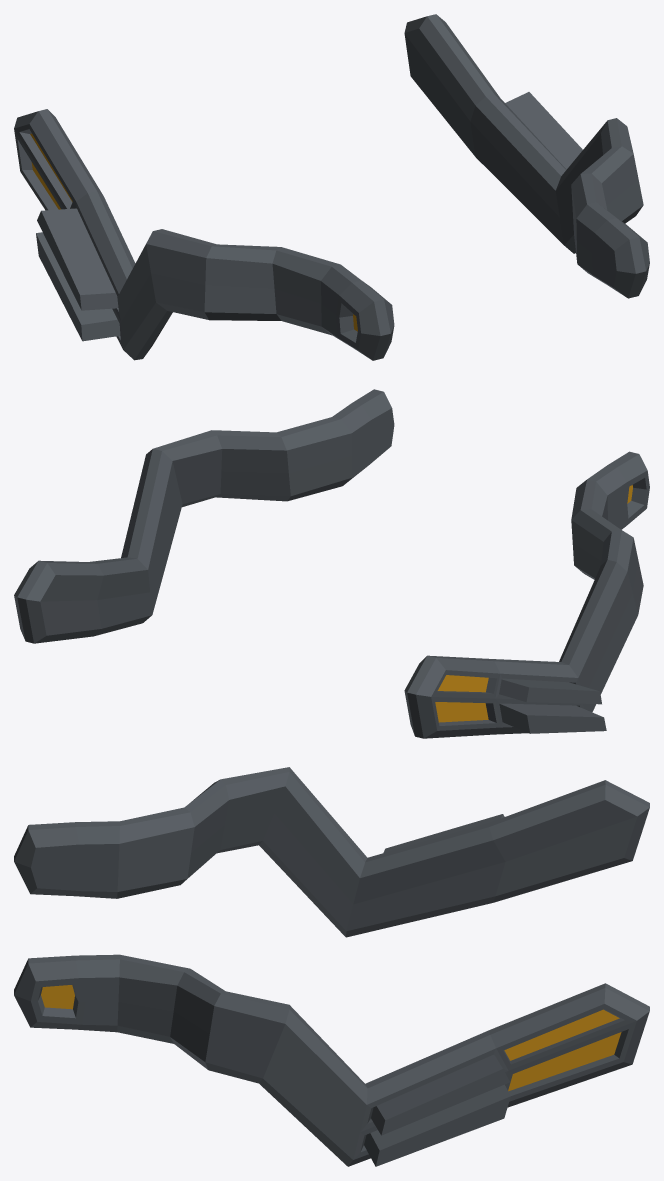
Rendered from Personal_Vehicle_04_Spine_Rods_Yellow.fbx.
3 renders of one model, top to bottom at view 1: azimuth 30°, elevation 25°; view 2: azimuth 150°, elevation 25°; view 3: azimuth 270°, elevation 25°, orthographic. The views are drawn at different scales.
Visible parts, largest first — view 1: Personal_Vehicle_04_Spine_Rods_Yellow; view 2: Personal_Vehicle_04_Spine_Rods_Yellow; view 3: Personal_Vehicle_04_Spine_Rods_Yellow.
Part boxes in pixels (x1=…): Personal_Vehicle_04_Spine_Rods_Yellow: x1=14, y1=14, x2=649, y2=360; Personal_Vehicle_04_Spine_Rods_Yellow: x1=14, y1=389, x2=649, y2=738; Personal_Vehicle_04_Spine_Rods_Yellow: x1=14, y1=767, x2=649, y2=1166.
Size of the model in its own units: 101 by 28.44 by 98.58.
Materials: 1 (1 with a texture image).
